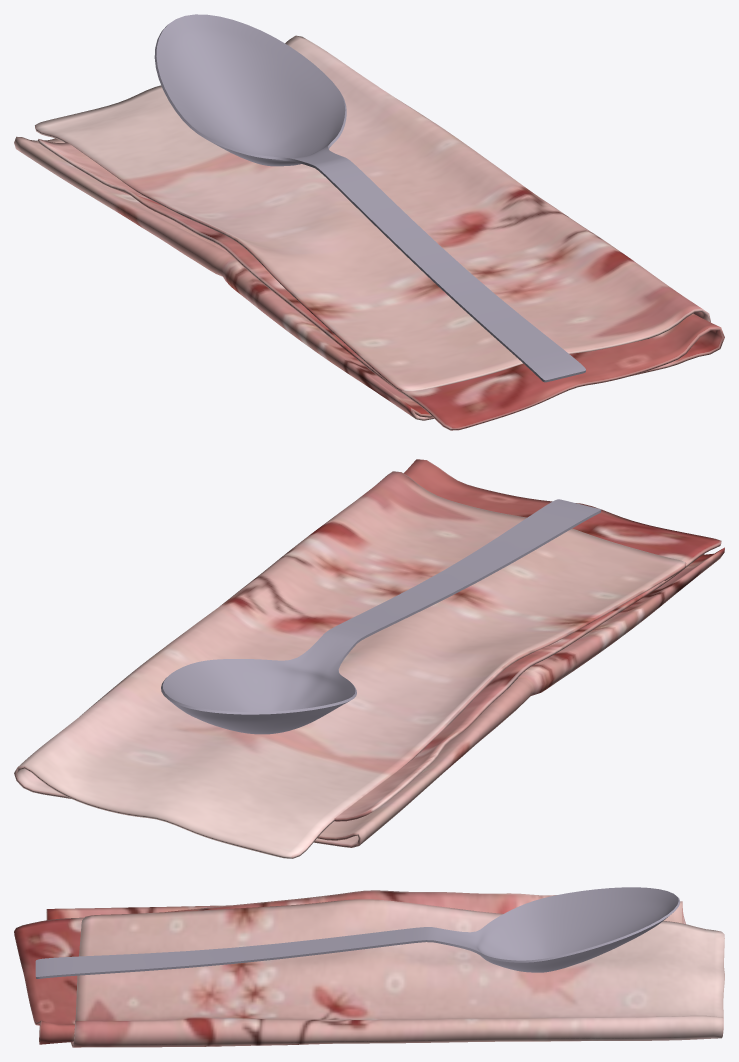
File: Spoon and Napkin.fbx
The picture shows the model from 3 angles, top to bottom: view 1: azimuth 30°, elevation 25°; view 2: azimuth 150°, elevation 25°; view 3: azimuth 270°, elevation 25°; orthographic projection. The views are drawn at different scales.
Parts seen in each view (by area): view 1: Napkin, Spoon; view 2: Napkin, Spoon; view 3: Napkin, Spoon.
Part boxes in pixels (bbox=[...]): Napkin: bbox=[14, 35, 724, 430]; Spoon: bbox=[154, 14, 585, 382]; Napkin: bbox=[14, 459, 724, 858]; Spoon: bbox=[161, 499, 601, 734]; Napkin: bbox=[14, 890, 724, 1047]; Spoon: bbox=[35, 887, 680, 978].
Size of the model in its own units: 4.46 by 1.28 by 9.66.
